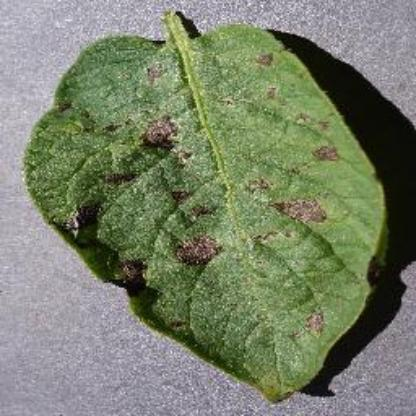Early-Blight: (23, 10, 398, 400)
